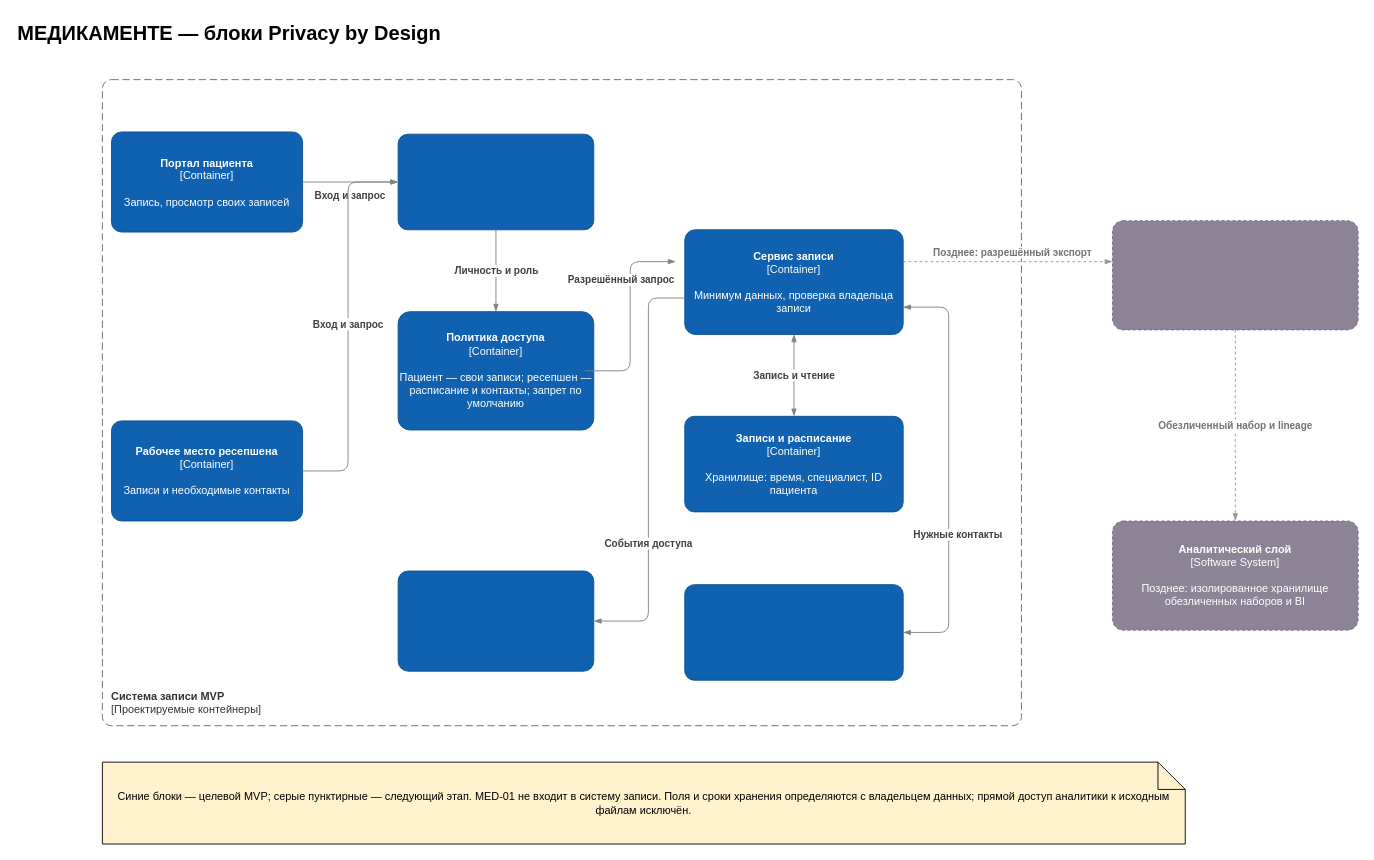
This 1374x860 diagram has some shape labels left out. The shapes that lost their labels are listed below. From the top down, each one's box as (x1, y1, x2, y2) in pixels, then its label:
(397, 133, 594, 230): Идентификация [Container] Личность и сессия
(1112, 220, 1358, 330): Контролируемая выгрузка [Container] Позднее: теги, минимизация, обезличивание
(397, 570, 594, 671): Аудит и жизненный цикл [Container] Доступ, выгрузки, сроки и удаление
(684, 584, 903, 680): Контакты пациентов [Container] Отдельное хранилище без медкарты
